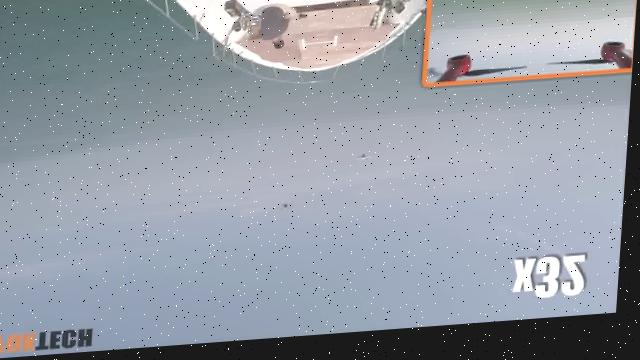drone: (355, 152, 383, 178), (273, 203, 299, 222)
